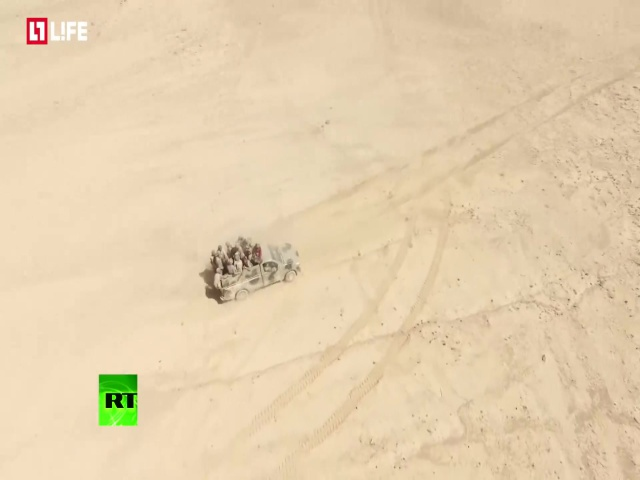vehicle: (207, 236, 301, 304)
